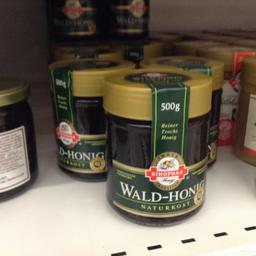honey: (102, 70, 212, 220), (44, 58, 108, 178)
